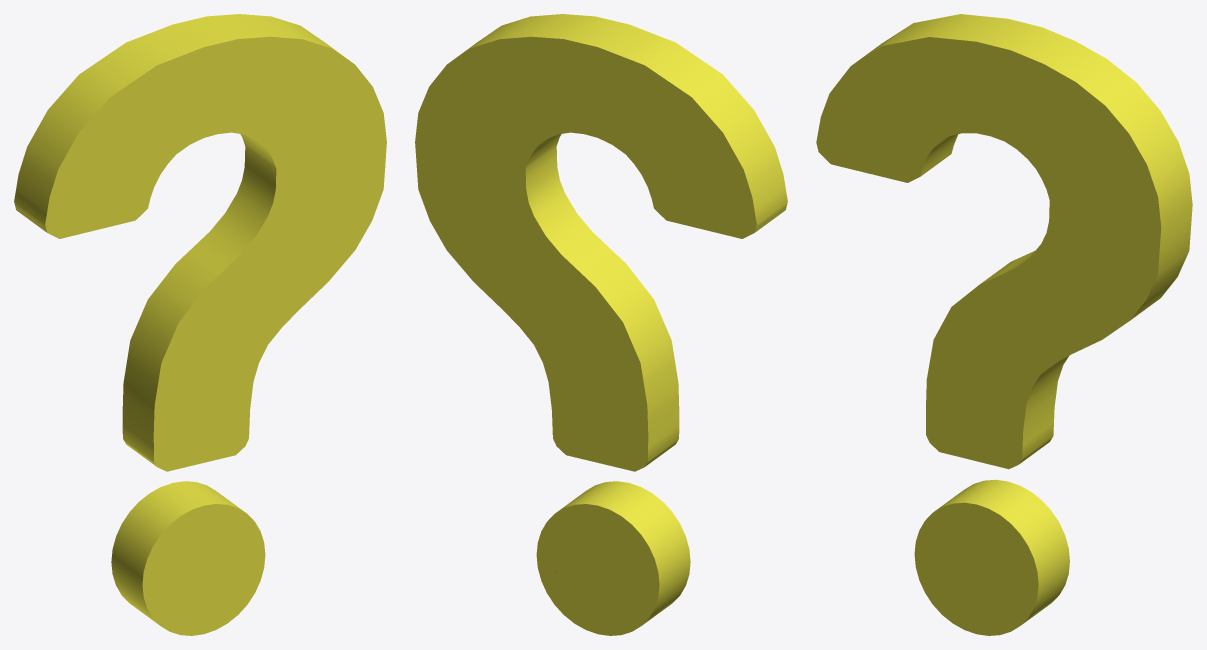
File: Question Mark.fbx
3 views of the same model, side by side, from view 1: azimuth 30°, elevation 25°; view 2: azimuth 150°, elevation 25°; view 3: azimuth 330°, elevation 25° (orthographic).
Visible parts, largest first — view 1: Question Mark; view 2: Question Mark; view 3: Question Mark.
Part boxes in pixels (x1,y1,x2,y2): Question Mark: [14, 14, 386, 635]; Question Mark: [415, 14, 787, 635]; Question Mark: [816, 14, 1192, 635].
Size of the model in its own units: 2.38 by 3.91 by 0.375.
